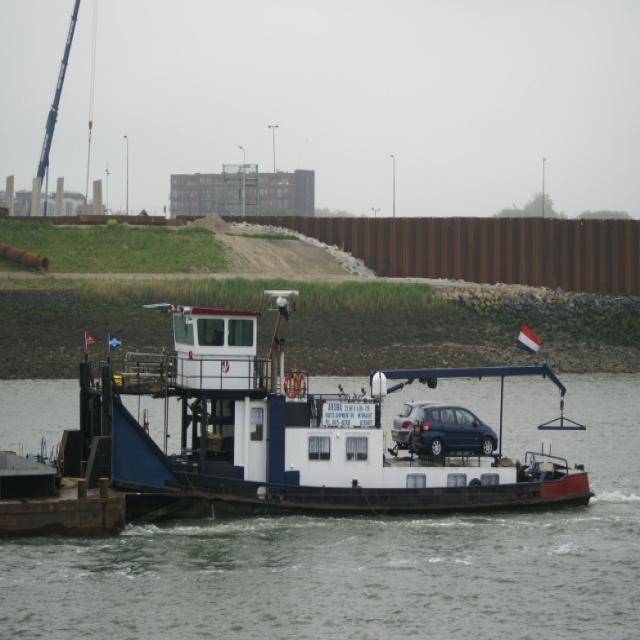tugboat: (50, 286, 600, 536)
